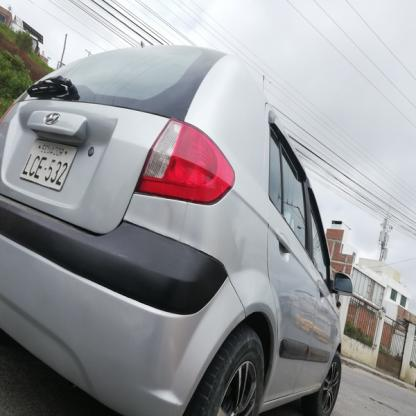Placa: (16, 132, 78, 199)
